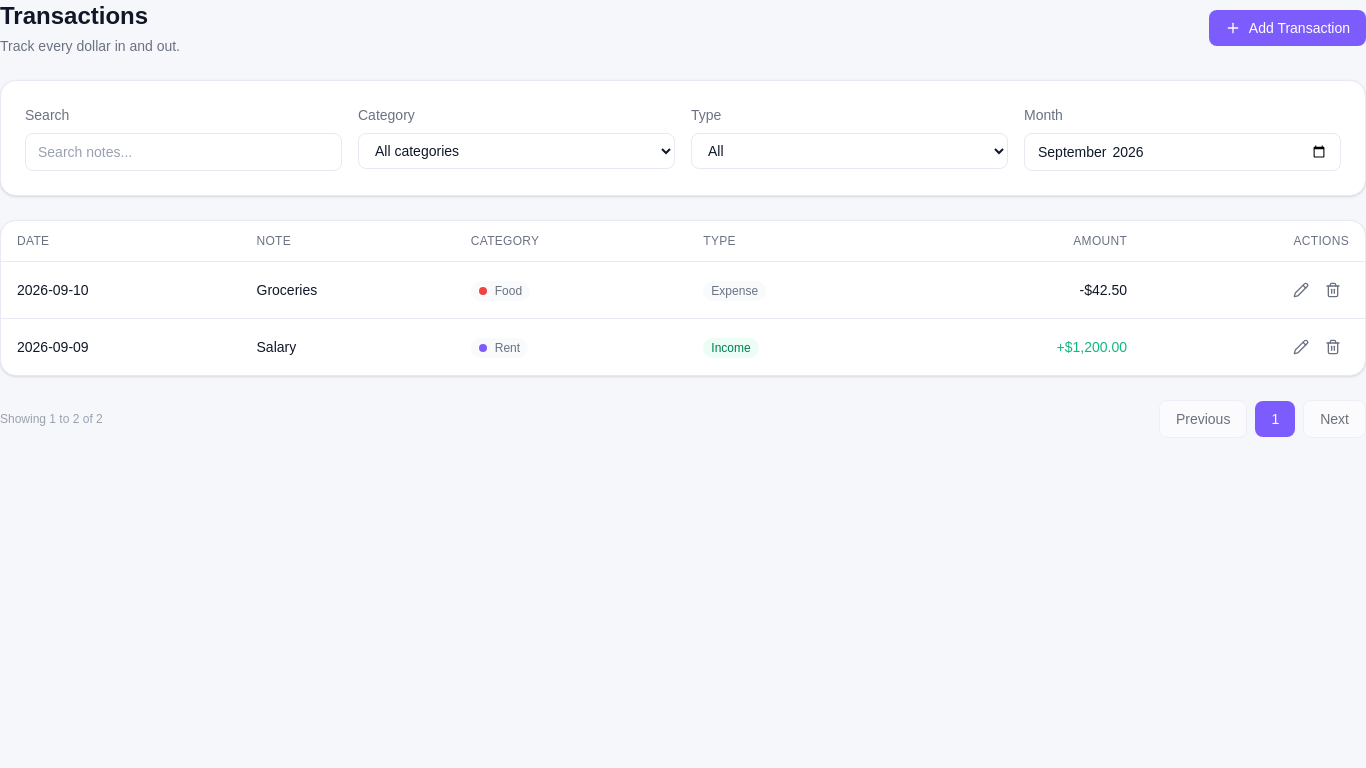
Test: TransactionsView › opens the delete dialog from a row action
Click the button named "Delete transaction tx_1" at (1333, 290), box [1317, 274, 1349, 306]
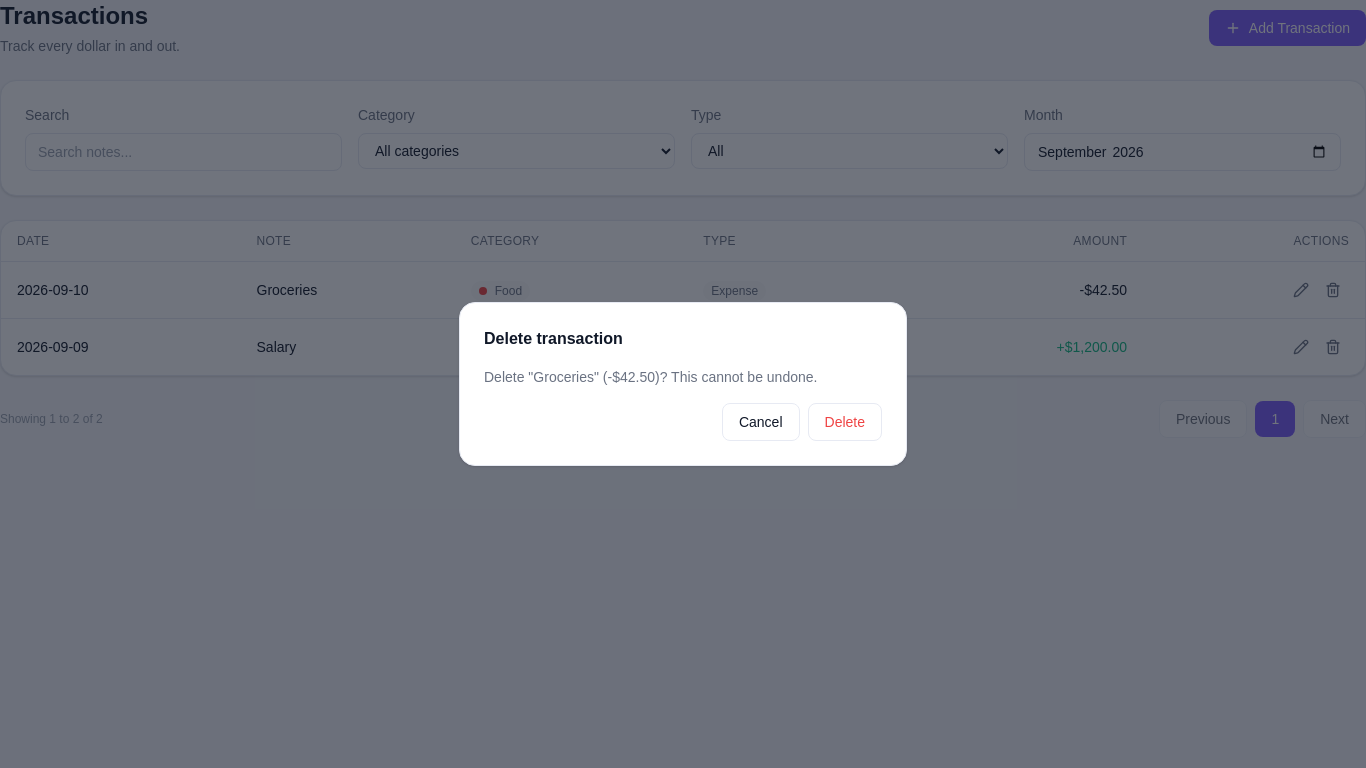
Expected: the dialog "Delete transaction" is shown, [459, 302, 907, 466]
